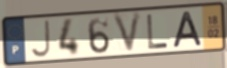4: (56, 16, 83, 57)
6: (86, 16, 112, 55)
A: (172, 10, 205, 49)
J: (29, 19, 52, 60)
L: (145, 13, 170, 50)
V: (110, 10, 144, 56)
